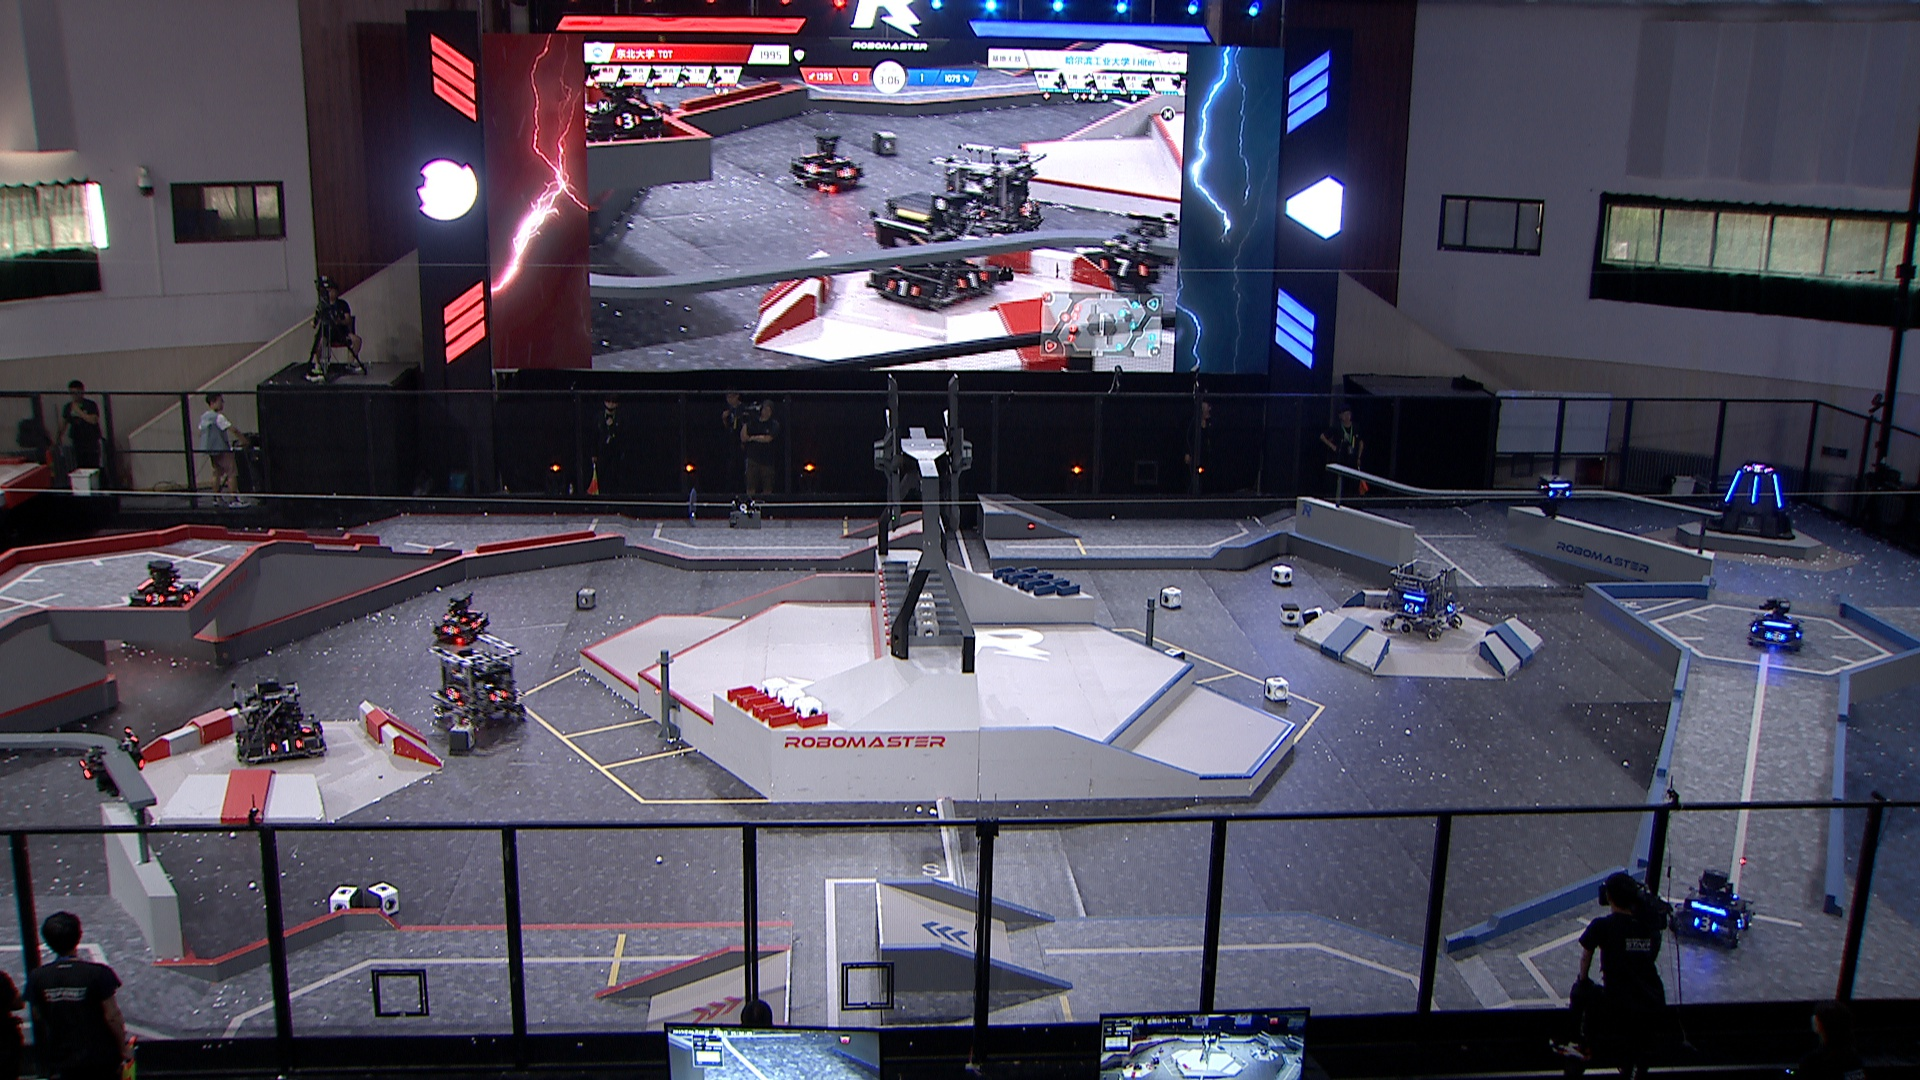armor: (266, 736, 305, 756), (1688, 915, 1721, 936), (73, 756, 96, 785), (310, 717, 332, 746), (1724, 469, 1742, 502), (1762, 626, 1788, 645), (1770, 472, 1783, 509), (1733, 907, 1753, 930), (1547, 487, 1572, 502), (294, 716, 314, 736), (1750, 471, 1760, 504), (443, 683, 460, 703), (1400, 600, 1422, 616), (487, 688, 509, 703), (166, 576, 185, 593), (181, 585, 196, 605), (444, 613, 467, 626), (1444, 597, 1461, 615), (144, 593, 167, 605), (439, 622, 458, 636)
base: (1700, 458, 1797, 541)
car: (425, 636, 527, 735), (224, 675, 332, 767), (1665, 865, 1756, 953), (1382, 553, 1462, 640), (128, 560, 204, 611), (1742, 593, 1808, 651), (434, 591, 491, 642)
ignore: (866, 185, 1001, 309), (935, 138, 1044, 243), (1091, 208, 1172, 291), (580, 74, 666, 144), (790, 129, 866, 194), (1745, 462, 1774, 473)
watcher: (73, 723, 153, 802), (1538, 469, 1576, 517)
